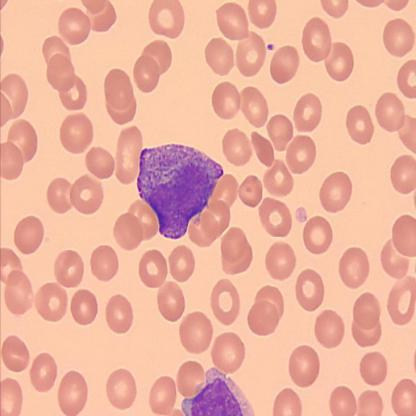Myelocyte: (136, 142, 227, 241)
